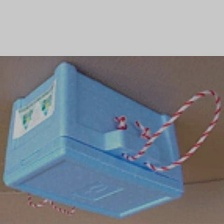foam_box: (0, 58, 224, 224)
